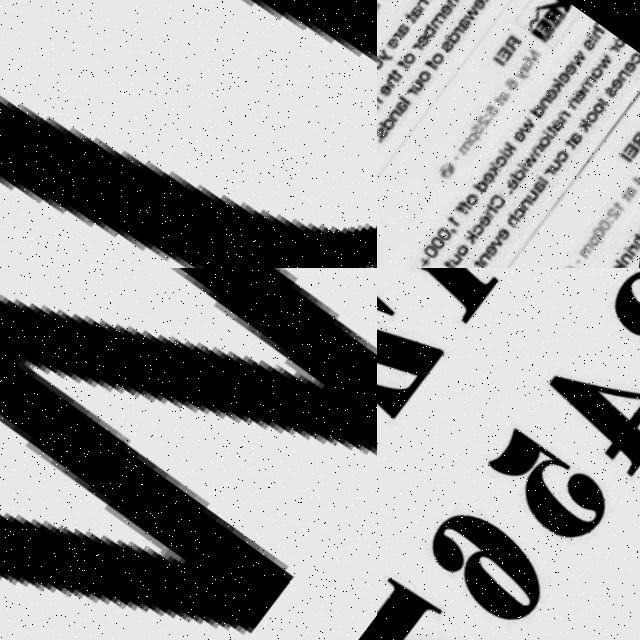0: (426, 243, 444, 260), (440, 226, 458, 242), (433, 234, 451, 250), (600, 216, 618, 232), (595, 224, 613, 240)
1: (451, 214, 467, 226), (614, 200, 630, 212)
2: (609, 206, 626, 220), (477, 115, 494, 128)
3: (579, 268, 640, 400)
4: (521, 326, 640, 483), (632, 172, 640, 188)
5: (454, 400, 640, 564), (486, 104, 503, 118), (472, 122, 489, 136)
6: (398, 482, 588, 640), (505, 77, 522, 91)
7: (377, 558, 551, 640)
A: (534, 178, 553, 196), (394, 20, 412, 37), (456, 16, 474, 32), (395, 98, 413, 114), (552, 116, 569, 132), (408, 4, 425, 18), (520, 60, 537, 74), (499, 88, 516, 102), (571, 130, 588, 144), (626, 185, 640, 198), (377, 0, 383, 11)
B: (420, 22, 438, 38)
C: (489, 190, 514, 212), (515, 204, 533, 221), (474, 221, 492, 237), (496, 154, 513, 168), (628, 51, 640, 66), (558, 12, 568, 22)
D: (530, 102, 548, 119), (444, 29, 462, 45), (381, 114, 399, 130), (475, 176, 493, 192), (512, 166, 530, 182)
E: (414, 31, 434, 49), (479, 212, 498, 230), (506, 176, 525, 193), (379, 82, 397, 99), (499, 225, 517, 242), (487, 242, 505, 259), (535, 17, 553, 34), (438, 2, 456, 18), (563, 62, 581, 78), (557, 69, 575, 85), (545, 86, 563, 102), (513, 128, 531, 144), (483, 170, 501, 186), (497, 45, 515, 61), (574, 86, 591, 102), (385, 36, 402, 51), (623, 59, 640, 74), (611, 76, 628, 91), (625, 142, 640, 158), (470, 0, 488, 12), (377, 102, 382, 119)
F: (461, 198, 477, 212), (457, 202, 473, 215), (396, 58, 411, 70), (424, 58, 439, 70)
H: (383, 73, 401, 89), (486, 203, 504, 219), (507, 212, 525, 228), (588, 23, 606, 39), (412, 0, 430, 11), (632, 232, 640, 248)
I: (584, 31, 601, 43), (500, 146, 515, 158), (543, 128, 558, 140), (518, 162, 533, 174), (627, 245, 640, 257), (493, 56, 507, 66), (621, 153, 635, 163), (532, 29, 545, 38)
K: (548, 76, 569, 94), (465, 228, 485, 246), (502, 140, 520, 156), (578, 117, 596, 133), (613, 257, 635, 268), (487, 161, 504, 175)
L: (399, 94, 413, 104), (597, 96, 611, 106), (539, 175, 553, 185)
M: (580, 73, 600, 94), (524, 47, 544, 66), (430, 10, 449, 28), (461, 138, 478, 155), (583, 241, 600, 258), (443, 0, 465, 9)
N: (532, 142, 549, 158), (521, 196, 538, 212), (389, 107, 406, 122), (558, 109, 575, 124), (617, 68, 634, 83), (568, 95, 584, 110), (482, 251, 498, 266), (538, 96, 555, 110), (623, 252, 640, 266), (377, 94, 387, 109)
O: (592, 98, 611, 116), (590, 64, 608, 80), (557, 148, 575, 164), (418, 68, 435, 84), (402, 50, 419, 65), (431, 51, 448, 66), (539, 134, 556, 149), (459, 243, 475, 258), (467, 192, 484, 206), (586, 110, 603, 124), (612, 36, 627, 49), (377, 56, 386, 71), (554, 20, 563, 28), (548, 28, 556, 36)
P: (468, 131, 485, 145), (592, 235, 609, 249), (543, 35, 554, 44)
R: (543, 5, 562, 24), (503, 34, 523, 52), (453, 24, 468, 37), (547, 165, 561, 178), (392, 30, 406, 42), (408, 86, 422, 98), (608, 44, 622, 56), (412, 41, 426, 52), (632, 130, 640, 148), (632, 242, 640, 253)
S: (581, 36, 599, 52), (604, 84, 621, 100), (440, 39, 457, 54), (377, 124, 393, 139)
T: (493, 94, 509, 108), (403, 11, 419, 24), (546, 124, 562, 137), (565, 137, 581, 150), (390, 68, 406, 80), (476, 258, 492, 268), (623, 190, 636, 202), (446, 259, 462, 268), (595, 22, 608, 32)
U: (0, 0, 377, 268), (528, 188, 545, 203), (411, 78, 428, 92), (452, 252, 469, 266), (550, 158, 567, 172)
V: (494, 234, 511, 249)
W: (0, 268, 377, 640), (595, 51, 617, 73), (570, 48, 590, 69), (520, 117, 540, 135), (464, 5, 483, 23), (523, 152, 542, 170)
Y: (377, 47, 396, 65), (514, 66, 532, 82)
